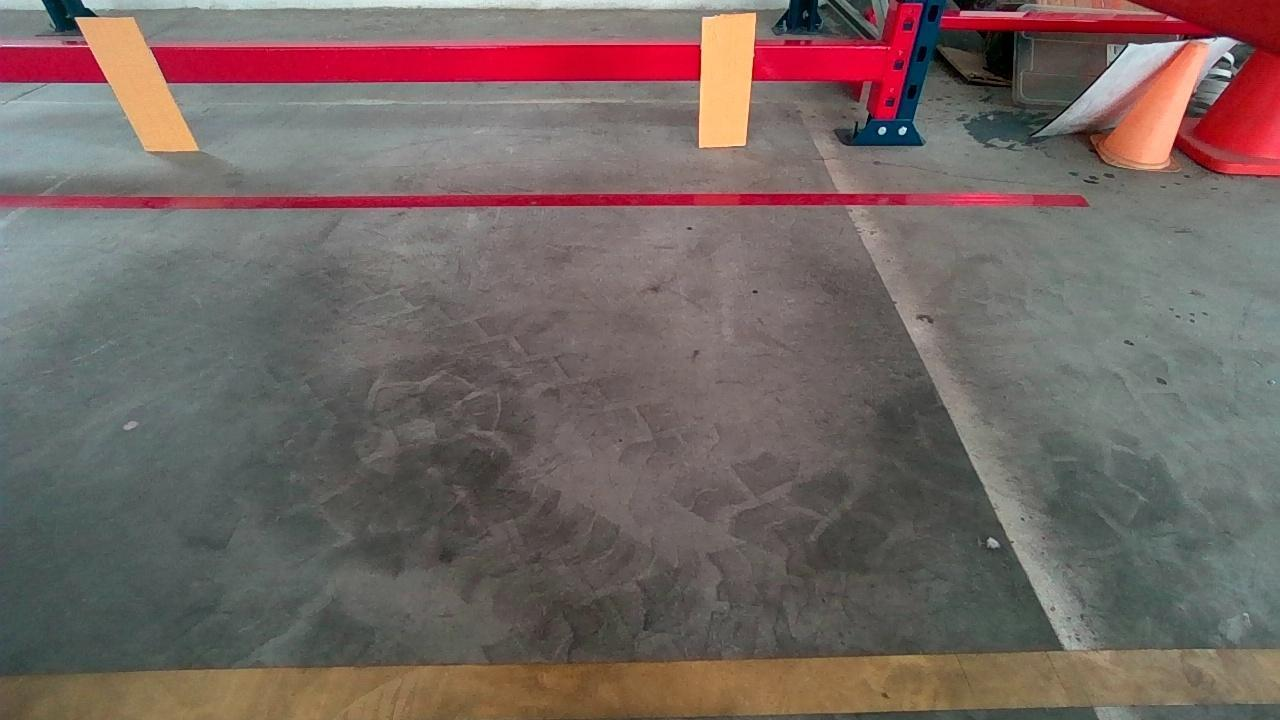h_rack: (11, 42, 887, 88)
orange_strip: (75, 16, 199, 153), (699, 13, 754, 147)
red_line: (3, 185, 1085, 217)
yellow_line: (0, 643, 1274, 720)
